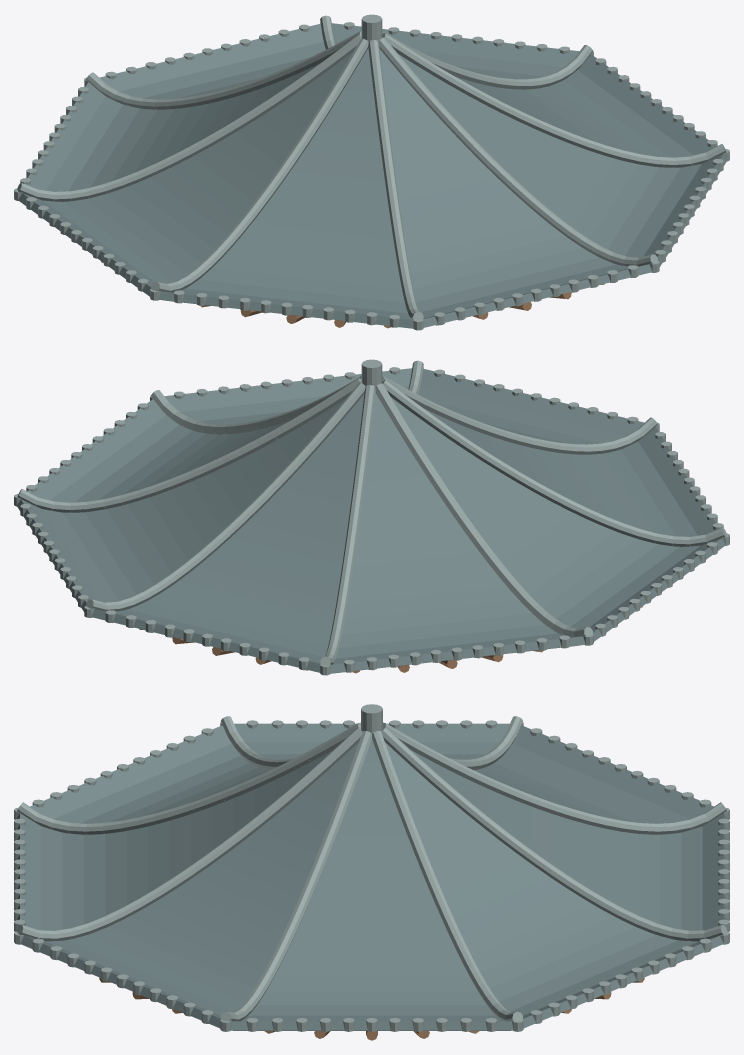
Rendered from roof.glb.
3 renders of one model, top to bottom at view 1: azimuth 30°, elevation 25°; view 2: azimuth 150°, elevation 25°; view 3: azimuth 270°, elevation 25°, orthographic. The views are drawn at different scales.
Parts seen in each view (by area): view 1: Roof curved panel 04, Roof curved panel 05, Roof curved panel 03, Roof curved panel 06, Roof curved panel 02, Roof curved panel 07, Roof curved panel 01, Roof curved panel 00, Roof finial; view 2: Roof curved panel 02, Roof curved panel 01, Roof curved panel 03, Roof curved panel 00, Roof curved panel 04, Roof curved panel 07, Roof curved panel 05, Roof curved panel 06, Roof finial; view 3: Roof curved panel 07, Roof curved panel 00, Roof curved panel 06, Roof curved panel 01, Roof curved panel 05, Roof curved panel 02, Roof curved panel 04, Roof curved panel 03, Roof finial.
Part boxes in pixels (<box>): Roof curved panel 04: <box>158,48,413,328</box>; Roof curved panel 05: <box>379,49,652,327</box>; Roof curved panel 03: <box>18,52,352,296</box>; Roof curved panel 06: <box>398,54,726,266</box>; Roof curved panel 02: <box>24,64,318,191</box>; Roof curved panel 07: <box>455,54,716,157</box>; Roof curved panel 01: <box>100,23,325,99</box>; Roof curved panel 00: <box>331,23,579,79</box>; Roof finial: <box>361,14,382,41</box>; Roof curved panel 02: <box>330,393,585,673</box>; Roof curved panel 01: <box>91,394,364,672</box>; Roof curved panel 03: <box>391,397,725,641</box>; Roof curved panel 00: <box>17,399,345,611</box>; Roof curved panel 04: <box>425,409,719,536</box>; Roof curved panel 07: <box>27,399,288,502</box>; Roof curved panel 05: <box>418,368,643,444</box>; Roof curved panel 06: <box>164,368,412,424</box>; Roof finial: <box>361,359,382,386</box>; Roof curved panel 07: <box>230,739,513,1030</box>; Roof curved panel 00: <box>385,742,723,1028</box>; Roof curved panel 06: <box>20,742,358,1028</box>; Roof curved panel 01: <box>411,750,727,931</box>; Roof curved panel 05: <box>16,750,332,931</box>; Roof curved panel 02: <box>473,725,713,823</box>; Roof curved panel 04: <box>30,725,270,823</box>; Roof curved panel 03: <box>234,723,509,759</box>; Roof finial: <box>361,704,382,733</box>.
Size of the model in its own units: 7.84 by 2.61 by 7.84.
